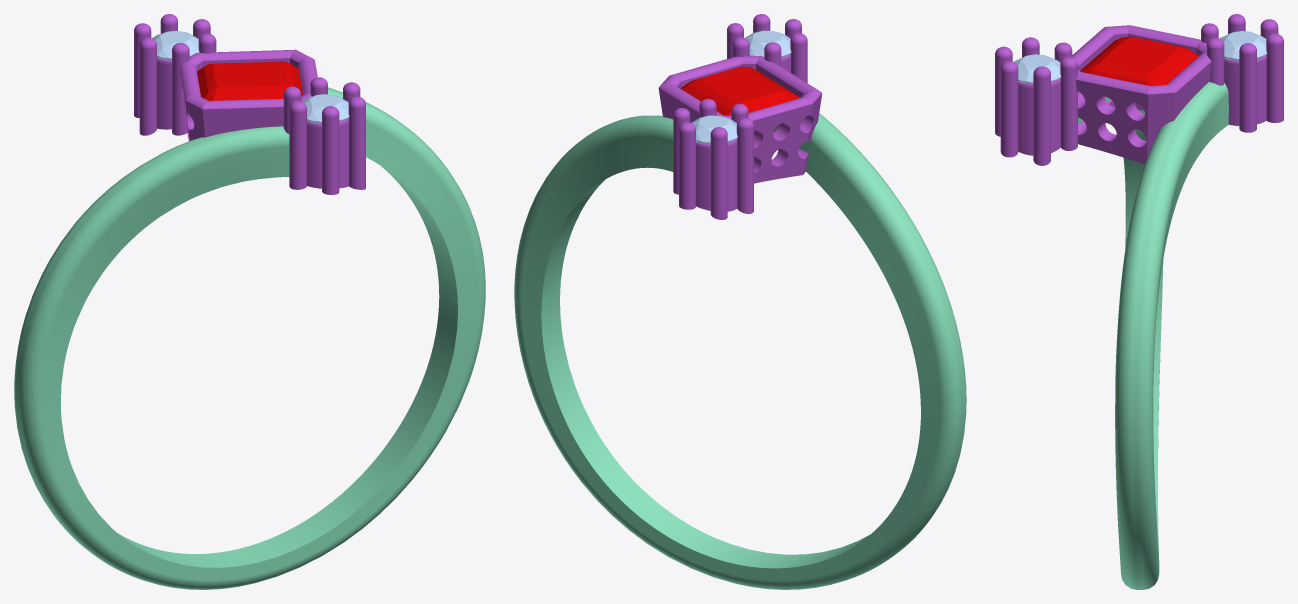
The picture shows the model from 3 angles, left to right: view 1: azimuth 30°, elevation 25°; view 2: azimuth 150°, elevation 25°; view 3: azimuth 270°, elevation 25°; orthographic projection. The views are drawn at different scales.
Visible parts, largest first — view 1: ref27 _peso2.7gr_Oro A 18kl _talla 6 3-4 _ esmer 0.21 ct _1 , Head Prong (×6), Bezel, Diamond_Radiant, Head Rail (×2), GemOnCrv (×2); view 2: ref27 _peso2.7gr_Oro A 18kl _talla 6 3-4 _ esmer 0.21 ct _1 , Bezel, Head Prong (×5), Diamond_Radiant, Head Rail, GemOnCrv (×2); view 3: ref27 _peso2.7gr_Oro A 18kl _talla 6 3-4 _ esmer 0.21 ct _1 , Bezel, Head Prong (×7), Diamond_Radiant, Head Rail (×2), GemOnCrv (×2).
Boxes of the visible parts, x1,y1,x2,y2 form: ref27 _peso2.7gr_Oro A 18kl _talla 6 3-4 _ esmer 0.21 ct _1 : [14, 87, 485, 589]; Head Prong (×6): [134, 23, 365, 194]; Bezel: [179, 49, 317, 141]; Diamond_Radiant: [197, 61, 302, 100]; Head Rail (×2): [157, 58, 348, 188]; GemOnCrv (×2): [152, 31, 349, 123]; ref27 _peso2.7gr_Oro A 18kl _talla 6 3-4 _ esmer 0.21 ct _1 : [514, 113, 966, 589]; Bezel: [658, 55, 822, 183]; Head Prong (×5): [673, 33, 807, 219]; Diamond_Radiant: [680, 66, 800, 115]; Head Rail: [696, 139, 737, 211]; GemOnCrv (×2): [691, 30, 791, 144]; ref27 _peso2.7gr_Oro A 18kl _talla 6 3-4 _ esmer 0.21 ct _1 : [1078, 81, 1228, 589]; Bezel: [1072, 25, 1211, 164]; Head Prong (×7): [995, 33, 1283, 165]; Diamond_Radiant: [1080, 36, 1198, 85]; Head Rail (×2): [1018, 55, 1266, 155]; GemOnCrv (×2): [1014, 31, 1267, 84].
Size of the model in its own units: 2.55 by 2.76 by 1.38.
